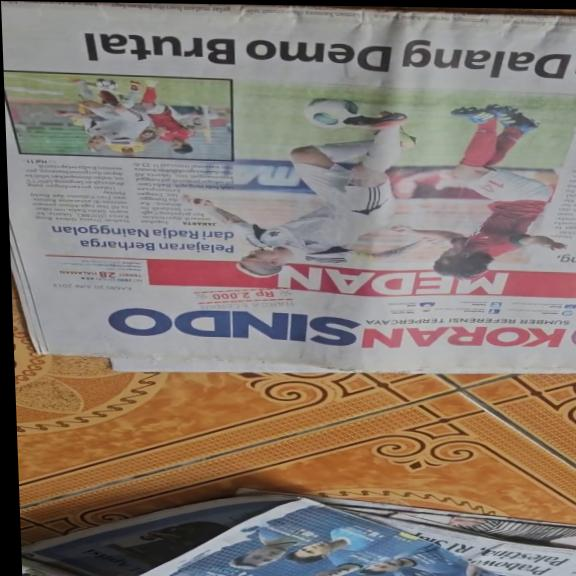Kertas: (6, 6, 576, 371)
